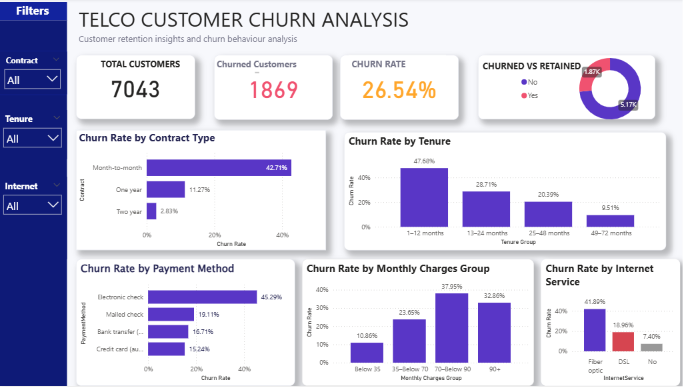

This screenshot's page, from the dashboard's own definition file:
{"tool":"powerbi","page":{"name":"Page 1","canvas":[1280,720],"ordinal":0},"visuals":[{"type":"card","fields":{"Values":["Telco-Customer-Churn.Total Customers"]},"box":[144.6,105.7,220.6,118.7],"z":0},{"type":"card","fields":{"Values":["Telco-Customer-Churn.Churned Customers"]},"box":[400,105.8,220,120],"z":1000},{"type":"card","fields":{"Values":["Telco-Customer-Churn.Churn Rate"]},"box":[635,105,220,120],"z":2000},{"type":"shape","title":"Filters","box":[0,7.4,127.9,712],"z":3000},{"type":"textbox","box":[144.6,7.4,669.4,83.4],"z":4000},{"type":"textbox","box":[144.6,59.3,521,100.1],"z":5000},{"type":"textbox","box":[309.9,132.3,179.5,13.2],"z":6000},{"type":"textbox","box":[185.2,105.8,179.5,34],"z":7000},{"type":"textbox","box":[400,105.8,220,120],"z":8000},{"type":"textbox","box":[650.1,105.8,179.5,39.7],"z":9000},{"type":"textbox","box":[890.1,105.8,328.8,119.1],"z":10000},{"type":"donutChart","fields":{"Y":["CountNonNull(Telco-Customer-Churn.customerID)"],"Category":["Telco-Customer-Churn.Churn"]},"box":[964.2,87.1,300.4,161.3],"z":11000},{"type":"clusteredBarChart","title":"Churn Rate by Contract Type","fields":{"Category":["Telco-Customer-Churn.Contract"],"Y":["Telco-Customer-Churn.Churn Rate"]},"box":[144.6,244.8,463.5,222.5],"z":12000},{"type":"clusteredColumnChart","title":"Churn Rate by Tenure","fields":{"Category":["Telco-Customer-Churn.Tenure Group"],"Y":["Telco-Customer-Churn.Churn Rate"]},"box":[640.6,247.6,597.2,219.2],"z":13000},{"type":"clusteredBarChart","title":"Churn Rate by Payment Method","fields":{"Category":["Telco-Customer-Churn.PaymentMethod"],"Y":["Telco-Customer-Churn.Churn Rate"]},"box":[144.6,483.9,406.1,235.5],"z":14000},{"type":"clusteredColumnChart","fields":{"Y":["Telco-Customer-Churn.Churn Rate"],"Category":["Telco-Customer-Churn.Monthly Charges Group"]},"box":[563.7,483.9,430.2,235.5],"z":15000},{"type":"clusteredColumnChart","title":"Churn Rate by Internet Service","fields":{"Category":["Telco-Customer-Churn.InternetService"],"Y":["Telco-Customer-Churn.Churn Rate"]},"box":[1006.8,483.9,257.7,235.5],"z":16000},{"type":"slicer","fields":{"Values":["Telco-Customer-Churn.Contract"]},"box":[0,98.3,127.9,81.6],"z":17000},{"type":"slicer","fields":{"Values":["Telco-Customer-Churn.Tenure Group"]},"box":[0,207.7,127.9,90.9],"z":18000},{"type":"slicer","fields":{"Values":["Telco-Customer-Churn.InternetService"]},"box":[0,331.9,127.9,152],"z":19000}]}

Visuals, with their boxes in screenshot pixels (x1, y1, x2, y2), scaled from the page's 1280x720 canvas onto the 683x387 screenshot:
card - Telco-Customer-Churn.Total Customers: l=77, t=57, r=195, b=121
card - Telco-Customer-Churn.Churned Customers: l=213, t=57, r=331, b=121
card - Telco-Customer-Churn.Churn Rate: l=339, t=56, r=456, b=121
"Filters" shape: l=0, t=4, r=68, b=386
textbox: l=77, t=4, r=434, b=49
textbox: l=77, t=32, r=355, b=86
textbox: l=165, t=71, r=261, b=78
textbox: l=99, t=57, r=195, b=75
textbox: l=213, t=57, r=331, b=121
textbox: l=347, t=57, r=443, b=78
textbox: l=475, t=57, r=650, b=121
donutChart - CountNonNull(Telco-Customer-Churn.customerID) x Telco-Customer-Churn.Churn: l=514, t=47, r=675, b=134
"Churn Rate by Contract Type" clusteredBarChart: l=77, t=132, r=324, b=251
"Churn Rate by Tenure" clusteredColumnChart: l=342, t=133, r=660, b=251
"Churn Rate by Payment Method" clusteredBarChart: l=77, t=260, r=294, b=386
clusteredColumnChart - Telco-Customer-Churn.Churn Rate x Telco-Customer-Churn.Monthly Charges Group: l=301, t=260, r=530, b=386
"Churn Rate by Internet Service" clusteredColumnChart: l=537, t=260, r=675, b=386
slicer - Telco-Customer-Churn.Contract: l=0, t=53, r=68, b=97
slicer - Telco-Customer-Churn.Tenure Group: l=0, t=112, r=68, b=160
slicer - Telco-Customer-Churn.InternetService: l=0, t=178, r=68, b=260
